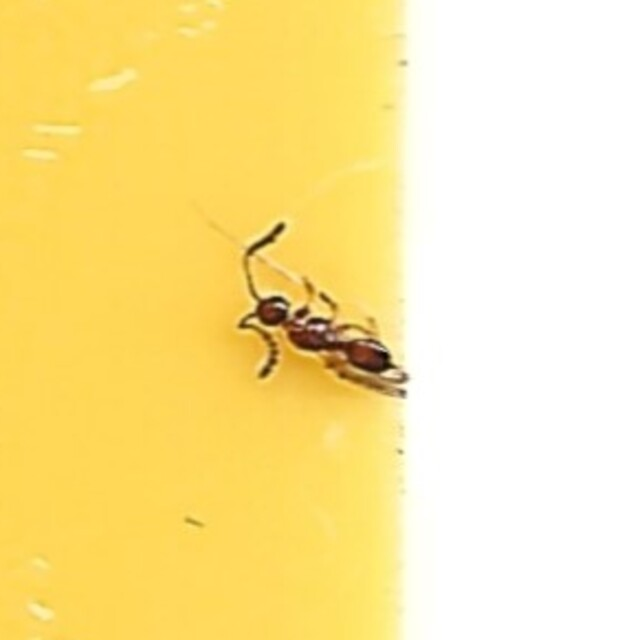Hymenoptera: (220, 213, 420, 427)
